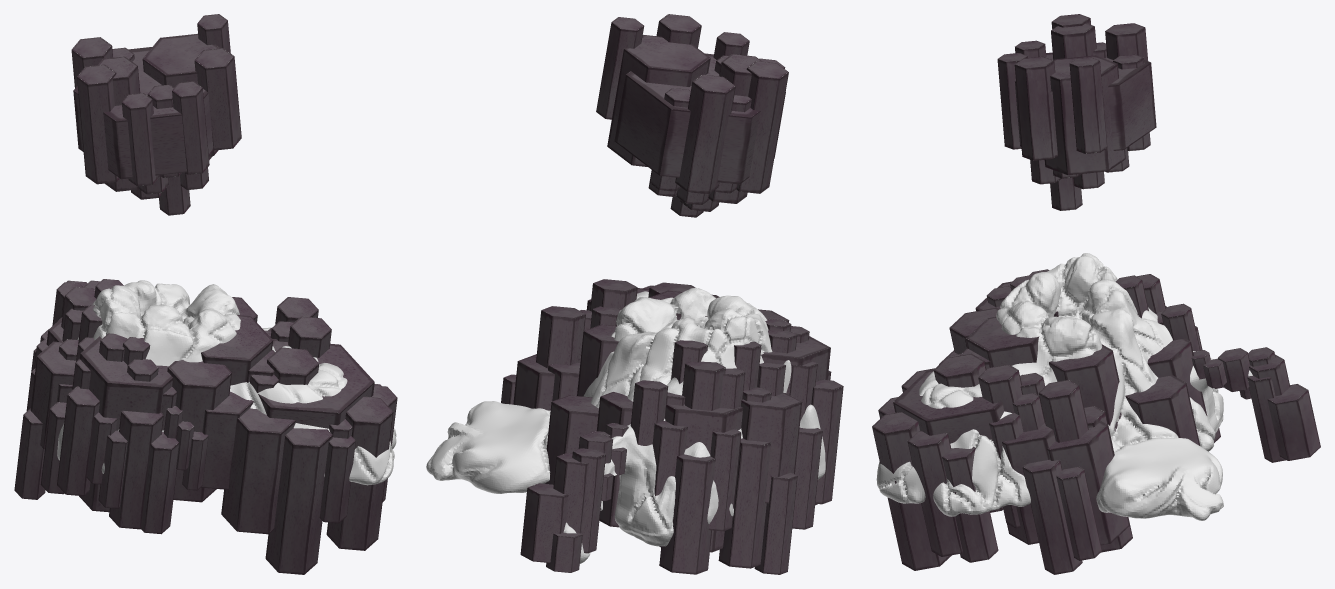
File: Island_Parts.fbx
The picture shows the model from 3 angles, left to right: view 1: azimuth 30°, elevation 25°; view 2: azimuth 150°, elevation 25°; view 3: azimuth 270°, elevation 25°; orthographic projection. The views are drawn at different scales.
Parts seen in each view (by area): view 1: Mountain, InversedMountain, MainlandSculpt; view 2: Mountain, InversedMountain, MainlandSculpt; view 3: Mountain, MainlandSculpt, InversedMountain.
Part boxes in pixels (left/top/right/bottom): Mountain: left=14, top=279, right=397, bottom=574; InversedMountain: left=71, top=14, right=241, bottom=215; MainlandSculpt: left=57, top=280, right=396, bottom=485; Mountain: left=501, top=279, right=843, bottom=574; InversedMountain: left=596, top=14, right=788, bottom=217; MainlandSculpt: left=426, top=287, right=825, bottom=563; Mountain: left=872, top=269, right=1320, bottom=574; MainlandSculpt: left=876, top=253, right=1252, bottom=520; InversedMountain: left=997, top=14, right=1156, bottom=210.
Bounding box in the file's own units: 16042 × 25296 × 21131.
